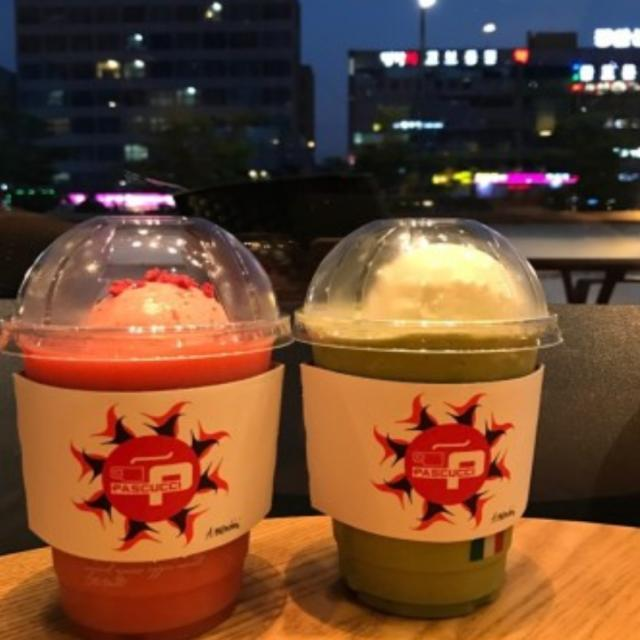bottle: (12, 322, 282, 636), (301, 345, 544, 615)
